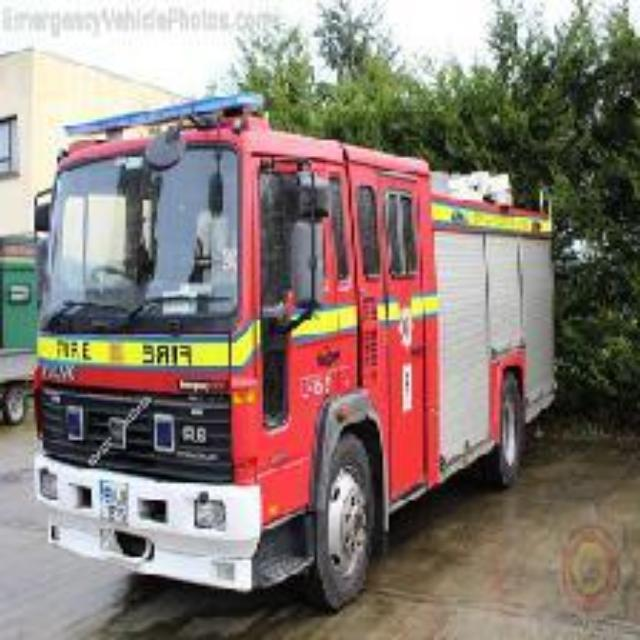emergency: (36, 106, 470, 606)
